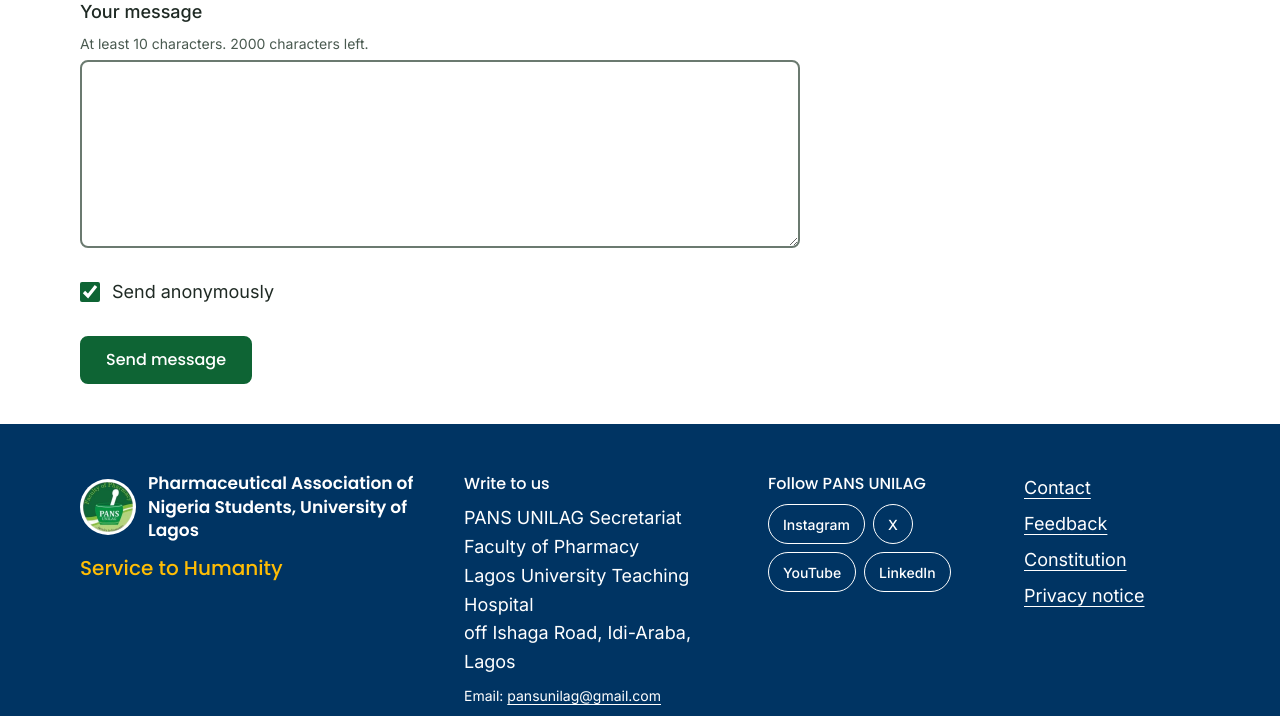
it: Feedback form › lists every problem in a focused summary linked to the fields
The width and height of the screenshot is (1280, 716).
(page scrolled)
Click the button "Send message" at (166, 360), box [80,336,252,384]
(page scrolled)
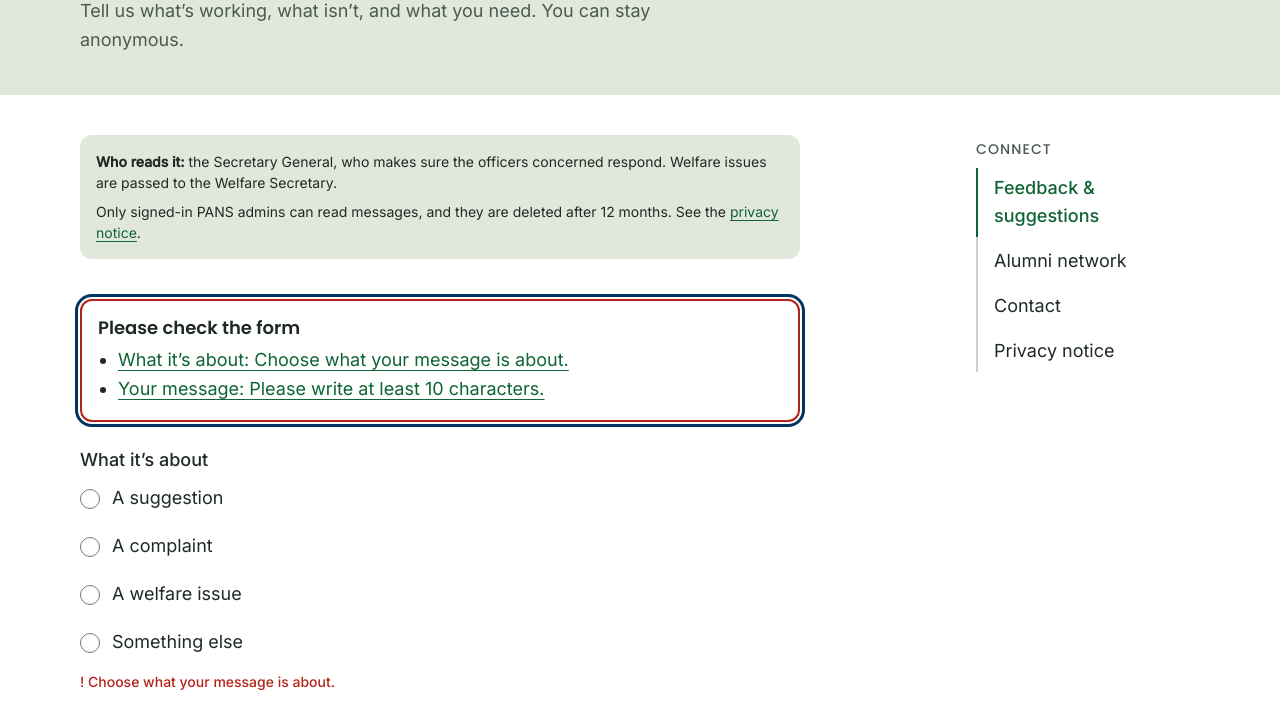
Result: the heading "Please check the form" is shown at [98,315,300,340]
Result: the link "Your message: Please write at least 10 characters." is shown at [118,378,544,399]
